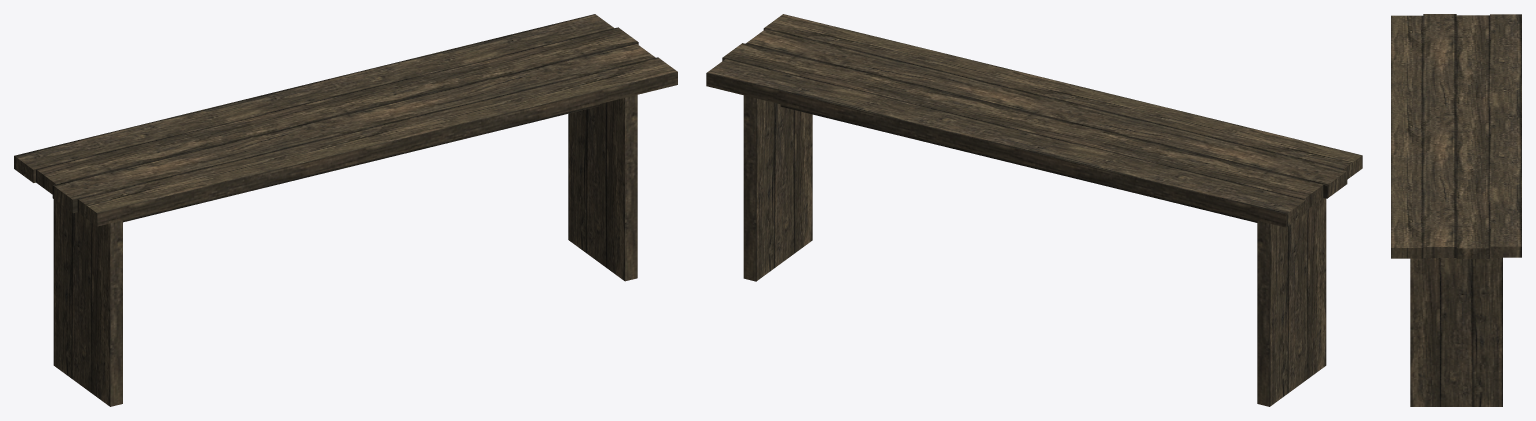
The model's file is bench_mx_1_1.obj.
3 renders of one model, left to right at view 1: azimuth 30°, elevation 25°; view 2: azimuth 150°, elevation 25°; view 3: azimuth 270°, elevation 25°, orthographic. The views are drawn at different scales.
Parts seen in each view (by area): view 1: bench_mx_1_1; view 2: bench_mx_1_1; view 3: bench_mx_1_1.
Boxes of the visible parts, x1,y1,x2,y2 form: bench_mx_1_1: (14, 14, 677, 406); bench_mx_1_1: (706, 14, 1362, 406); bench_mx_1_1: (1391, 14, 1521, 406).
Size of the model in its own units: 1.86 by 0.63 by 0.438.
